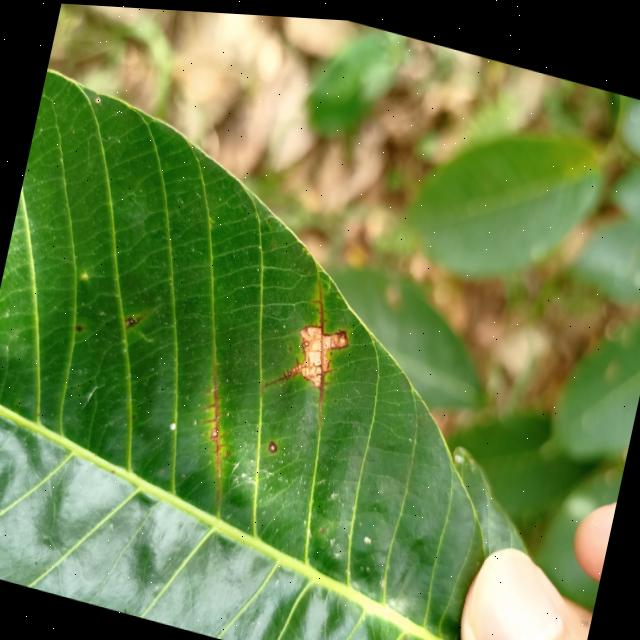Colletotrichum: (268, 435, 278, 449), (76, 323, 82, 330), (225, 445, 230, 452)
Corynespora: (260, 263, 360, 411), (184, 361, 247, 502), (122, 306, 146, 333)
